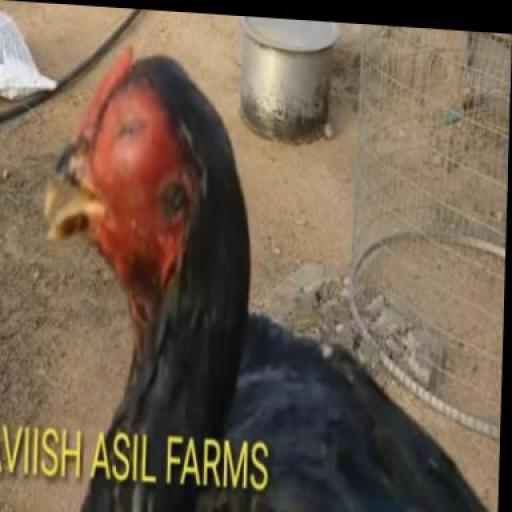disease: (66, 67, 192, 270)
